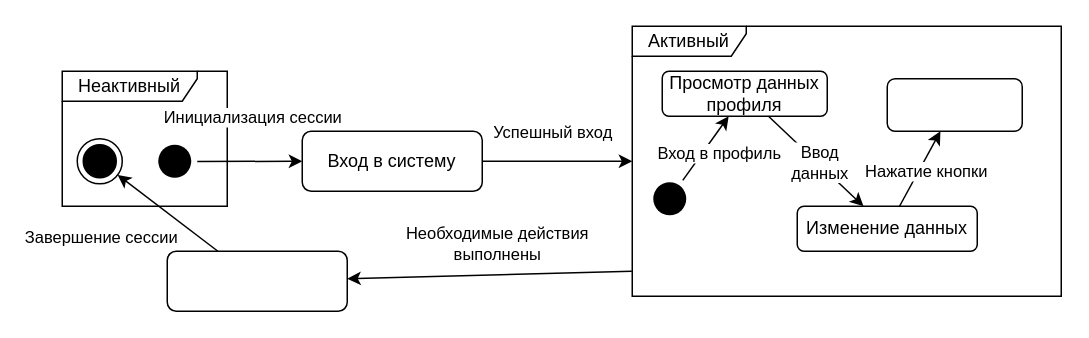
Some shapes in this 1089 by 338 pixel diagram are drawn without their labels. Each missing label, with the centre of its shape:
Выход из системы: point 256,280
Сохранение изменений: point 954,104
